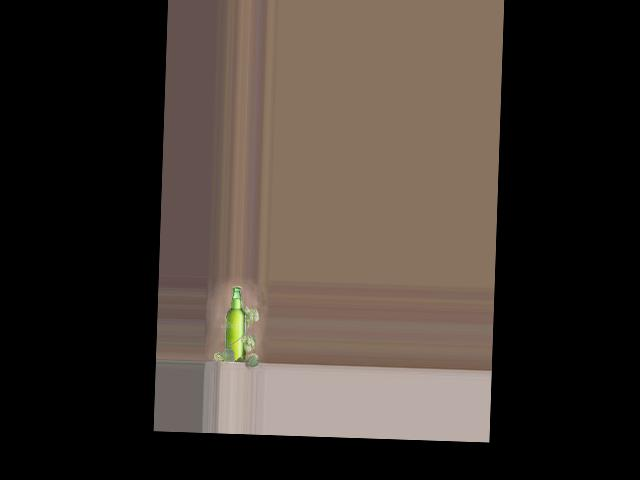beer: (223, 285, 246, 363)
